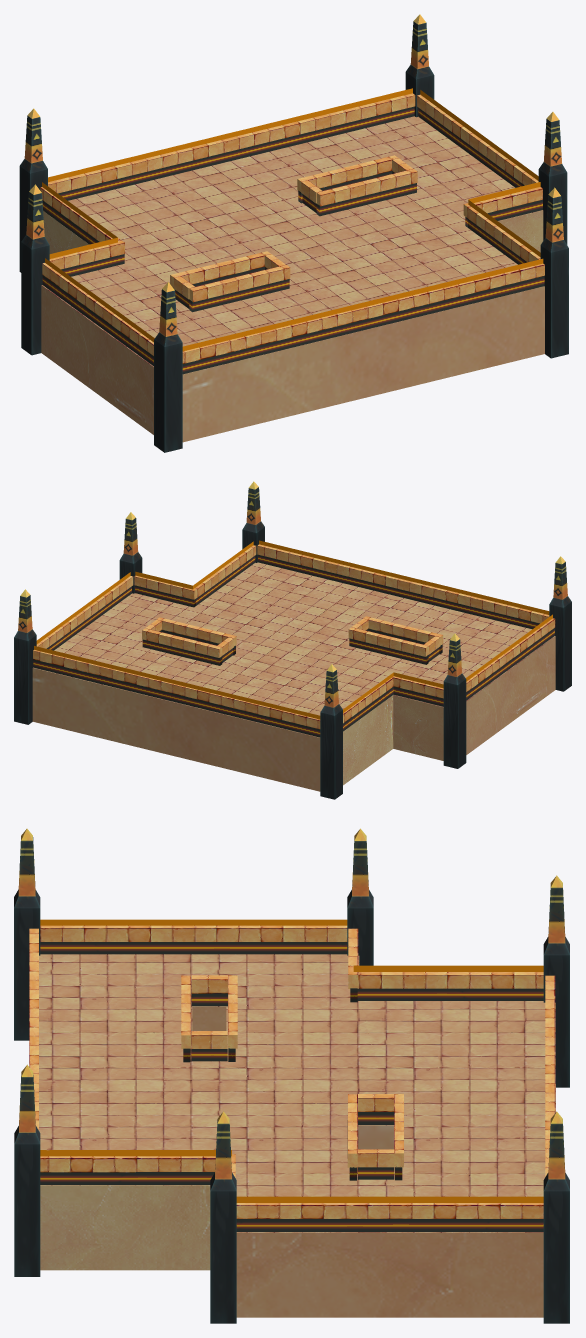
Rendered from Battle_Stage 41.fbx.
The picture shows the model from 3 angles, top to bottom: view 1: azimuth 30°, elevation 25°; view 2: azimuth 150°, elevation 25°; view 3: azimuth 270°, elevation 25°; orthographic projection. The views are drawn at different scales.
Visible parts, largest first — view 1: CR_Platform_Cube__5_, CR_Platform_Cube.045, CR_Platform_Cube.044, Plane.180, CR_Platform_Cube.061, CR_Platform_Cube.064, CR_Platform_Cube.062, CR_Platform_Cube.048, CR_Platform_Cube.047, CR_Platform_Cube.054, CR_Platform_Cube.058, CR_Platform_Cube.063 (+8 smaller); view 2: CR_Platform_Cube__5_, CR_Platform_Cube.044, CR_Platform_Cube.045, Plane.180, CR_Platform_Cube.062, CR_Platform_Cube.063, CR_Platform_Cube.065, CR_Platform_Cube.061, CR_Platform_Cube.048, CR_Platform_Cube.047, CR_Platform_Cube.053, CR_Platform_Cube.057 (+8 smaller); view 3: CR_Platform_Cube__5_, CR_Platform_Cube.048, CR_Platform_Cube.047, Plane.180, CR_Platform_Cube.050, CR_Platform_Cube.052, CR_Platform_Cube.066, CR_Platform_Cube.065, CR_Platform_Cube.064, CR_Platform_Cube.061, CR_Platform_Cube.063, CR_Platform_Cube.062 (+11 smaller).
Part boxes in pixels (x1,y1,x2,y2): CR_Platform_Cube__5_: [41, 116, 544, 442]; CR_Platform_Cube.045: [48, 93, 415, 200]; CR_Platform_Cube.044: [182, 263, 544, 374]; Plane.180: [42, 88, 543, 351]; CR_Platform_Cube.061: [154, 282, 182, 452]; CR_Platform_Cube.064: [540, 187, 568, 358]; CR_Platform_Cube.062: [21, 184, 49, 355]; CR_Platform_Cube.048: [42, 263, 153, 366]; CR_Platform_Cube.047: [417, 94, 538, 187]; CR_Platform_Cube.054: [316, 169, 417, 216]; CR_Platform_Cube.058: [189, 264, 290, 312]; CR_Platform_Cube.063: [19, 108, 47, 272]; CR_Platform_Cube__5_: [32, 562, 555, 791]; CR_Platform_Cube.044: [257, 544, 549, 629]; CR_Platform_Cube.045: [33, 650, 320, 737]; Plane.180: [34, 540, 552, 719]; CR_Platform_Cube.062: [443, 633, 466, 768]; CR_Platform_Cube.063: [320, 664, 342, 799]; CR_Platform_Cube.065: [14, 589, 36, 724]; CR_Platform_Cube.061: [549, 556, 571, 691]; CR_Platform_Cube.048: [466, 618, 555, 700]; CR_Platform_Cube.047: [36, 576, 133, 650]; CR_Platform_Cube.053: [142, 628, 222, 665]; CR_Platform_Cube.057: [348, 627, 428, 664]; CR_Platform_Cube__5_: [39, 954, 555, 1317]; CR_Platform_Cube.048: [40, 925, 347, 954]; CR_Platform_Cube.047: [236, 1203, 543, 1231]; Plane.180: [40, 919, 543, 1202]; CR_Platform_Cube.050: [357, 972, 543, 1000]; CR_Platform_Cube.052: [40, 1156, 215, 1184]; CR_Platform_Cube.066: [210, 1111, 236, 1323]; CR_Platform_Cube.065: [543, 1111, 569, 1323]; CR_Platform_Cube.064: [14, 1064, 40, 1276]; CR_Platform_Cube.061: [14, 828, 40, 1040]; CR_Platform_Cube.063: [543, 875, 569, 1087]; CR_Platform_Cube.062: [347, 828, 373, 965].
Bounding box in the file's own units: 7423 × 2434 × 5953.
